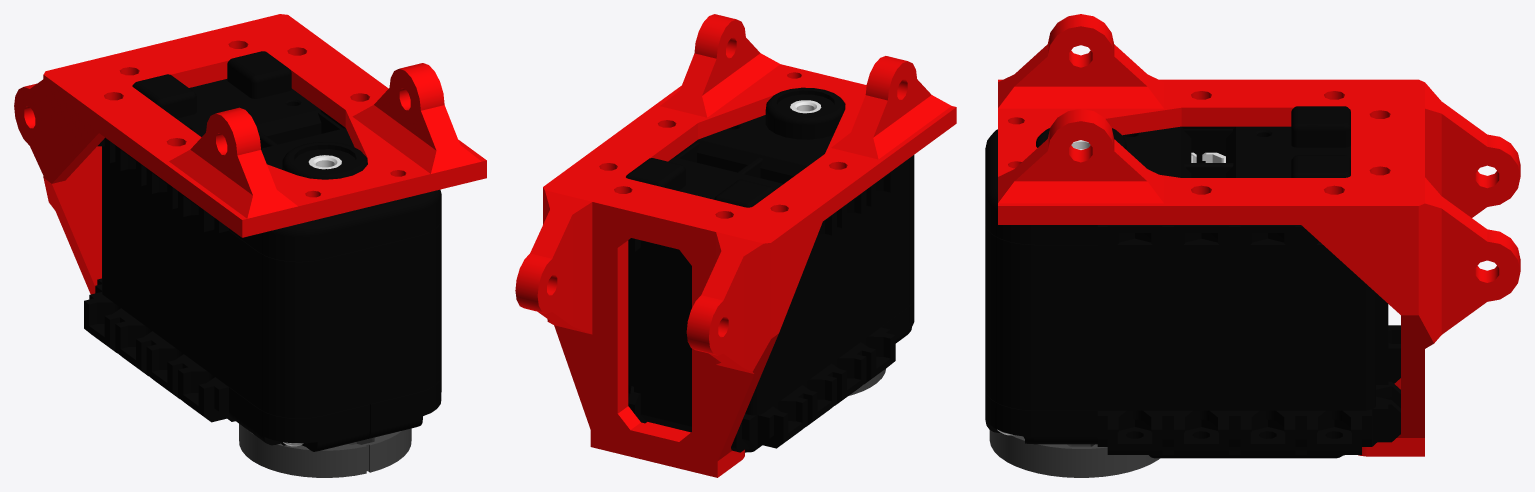
The model's file is neck.obj.
3 renders of one model, left to right at view 1: azimuth 30°, elevation 25°; view 2: azimuth 150°, elevation 25°; view 3: azimuth 270°, elevation 25°, orthographic. The views are drawn at different scales.
Parts seen in each view (by area): view 1: ASSY_DUMMY___, Solid1, DC04_B01_HORN2_DUMMY; view 2: Solid1, ASSY_DUMMY___; view 3: ASSY_DUMMY___, Solid1, DC04_B01_HORN2_DUMMY.
Boxes of the visible parts, x1,y1,x2,y2 form: ASSY_DUMMY___: (84,51,441,451); Solid1: (14,14,486,294); DC04_B01_HORN2_DUMMY: (239,424,411,477); Solid1: (515,14,956,477); ASSY_DUMMY___: (626,87,914,452); ASSY_DUMMY___: (985,106,1400,458); Solid1: (998,14,1520,456); DC04_B01_HORN2_DUMMY: (989,430,1159,477).
Bounding box in the file's own units: 1.42 × 1.95 × 2.54.
